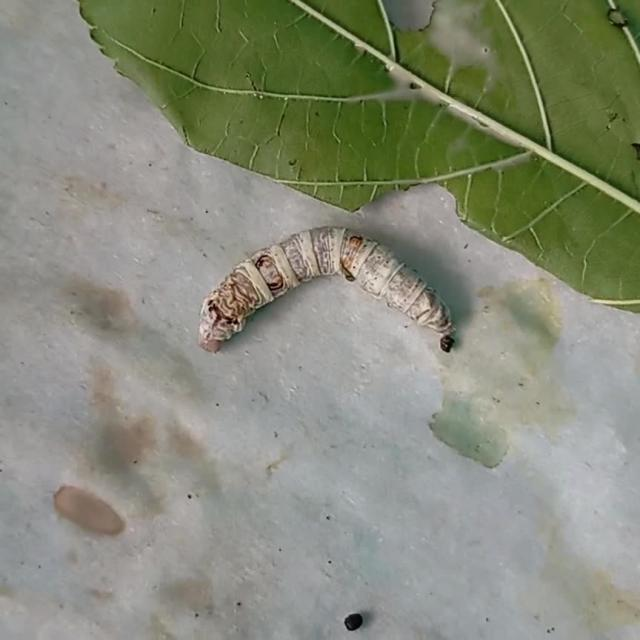Grasserie: (178, 206, 471, 398)
